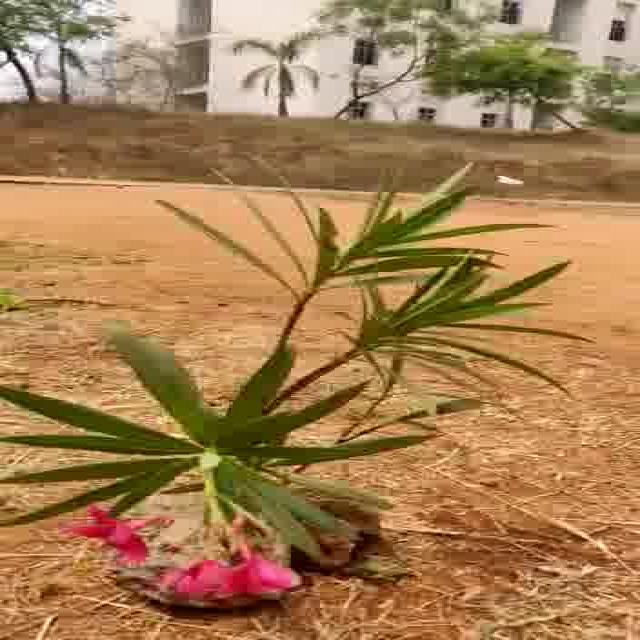Oleander: (24, 172, 502, 530)
